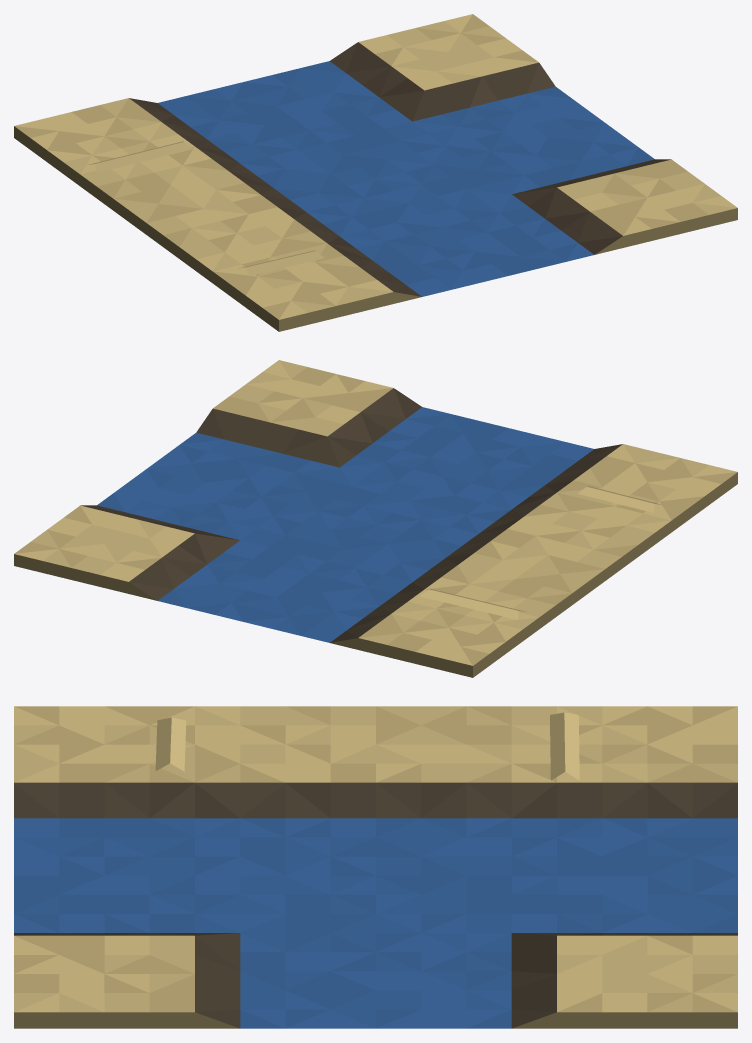
Rendered from river_junction_sand.glb.
3 views of the same model, one above another, from view 1: azimuth 30°, elevation 25°; view 2: azimuth 150°, elevation 25°; view 3: azimuth 270°, elevation 25° (orthographic). The views are drawn at different scales.
Parts seen in each view (by area): view 1: river_junction_sand; view 2: river_junction_sand; view 3: river_junction_sand.
Part boxes in pixels (x1=…): river_junction_sand: x1=14, y1=14, x2=737, y2=331; river_junction_sand: x1=14, y1=360, x2=737, y2=677; river_junction_sand: x1=14, y1=706, x2=737, y2=1028.
Bounding box in the file's own units: 4 × 0.135 × 4.
